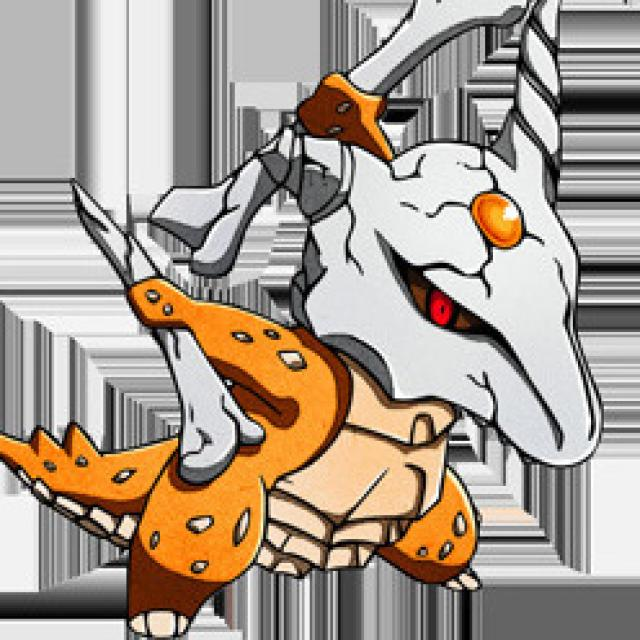Marowak: (107, 119, 612, 626)
